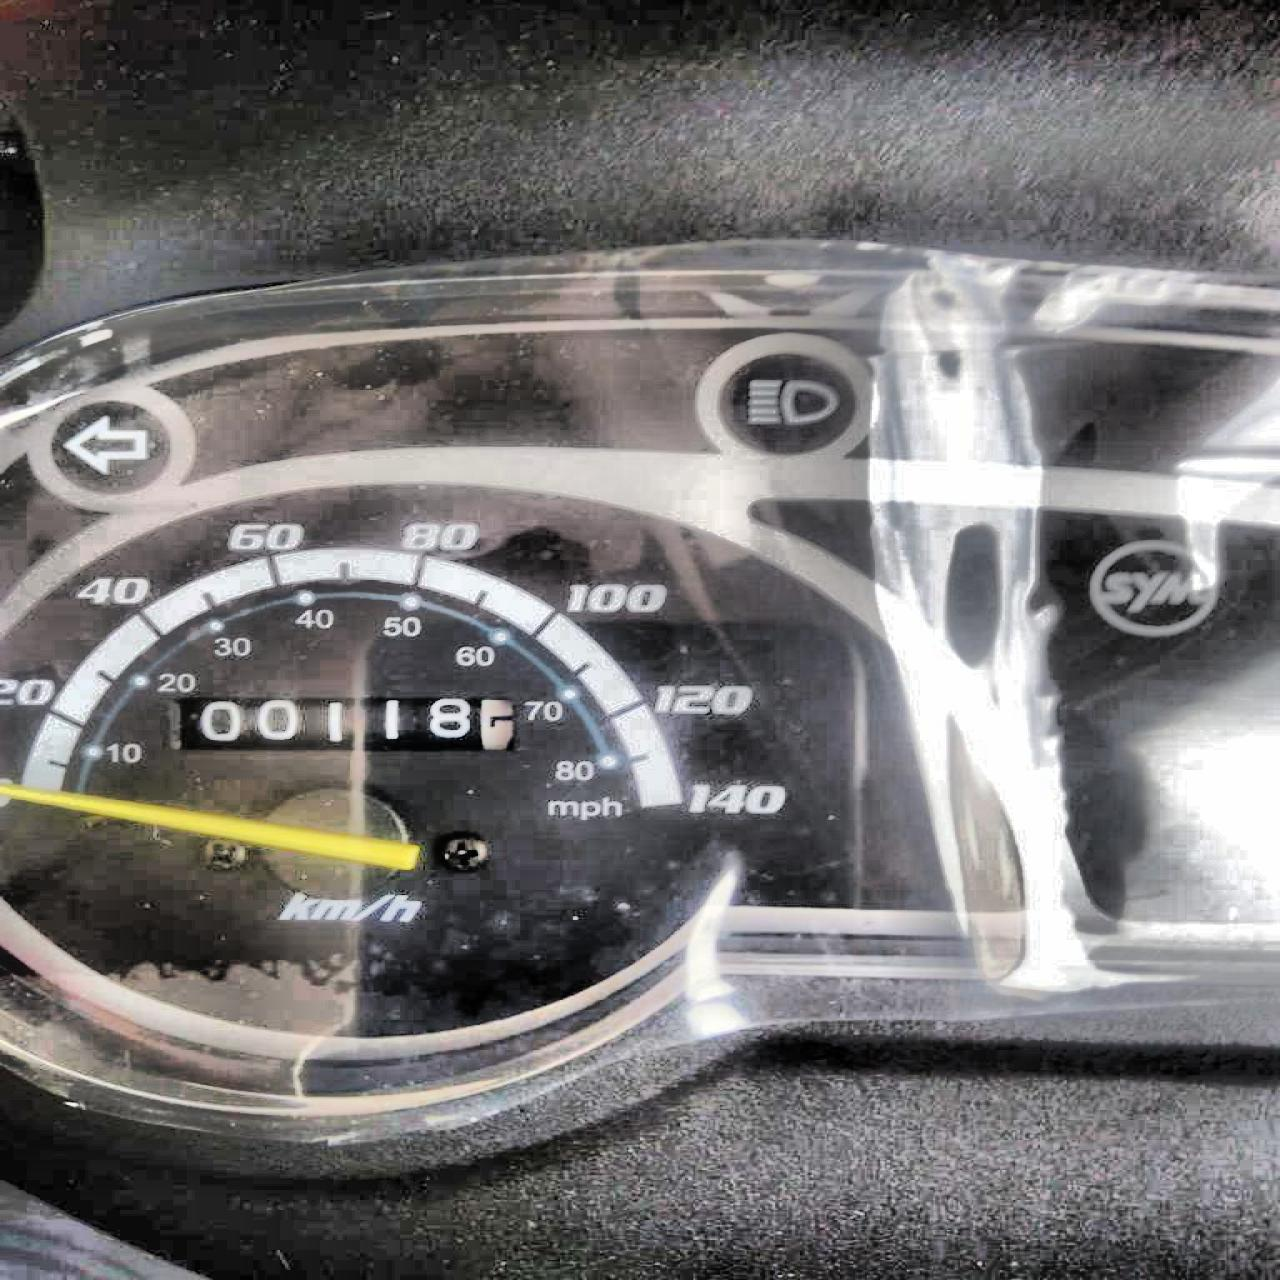0: (254, 697, 298, 741), (198, 700, 241, 741)
1: (324, 701, 343, 742), (382, 697, 400, 738)
7: (485, 713, 518, 751)
8: (427, 696, 471, 738)
odometer: (173, 695, 518, 753)
